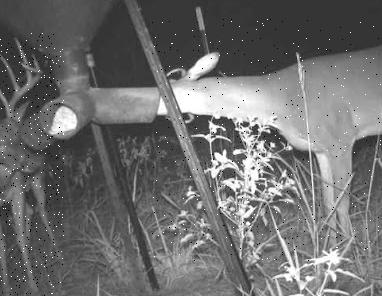Deer: (152, 19, 382, 261), (0, 33, 64, 296)
